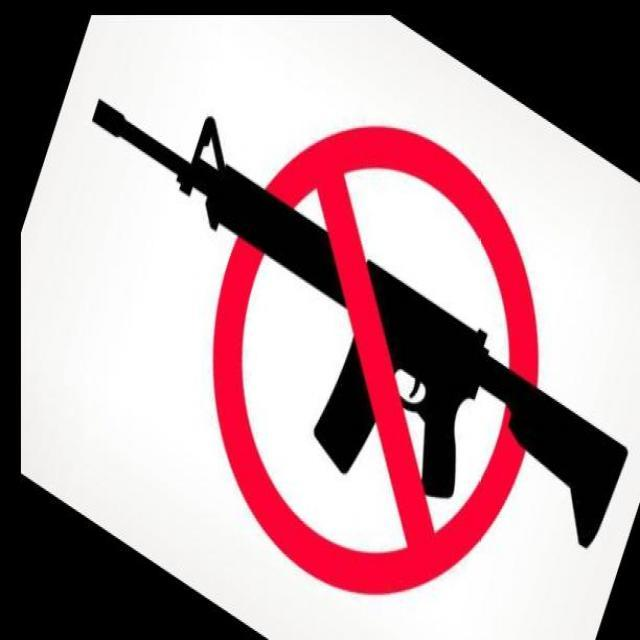weapon: (91, 95, 631, 550)
